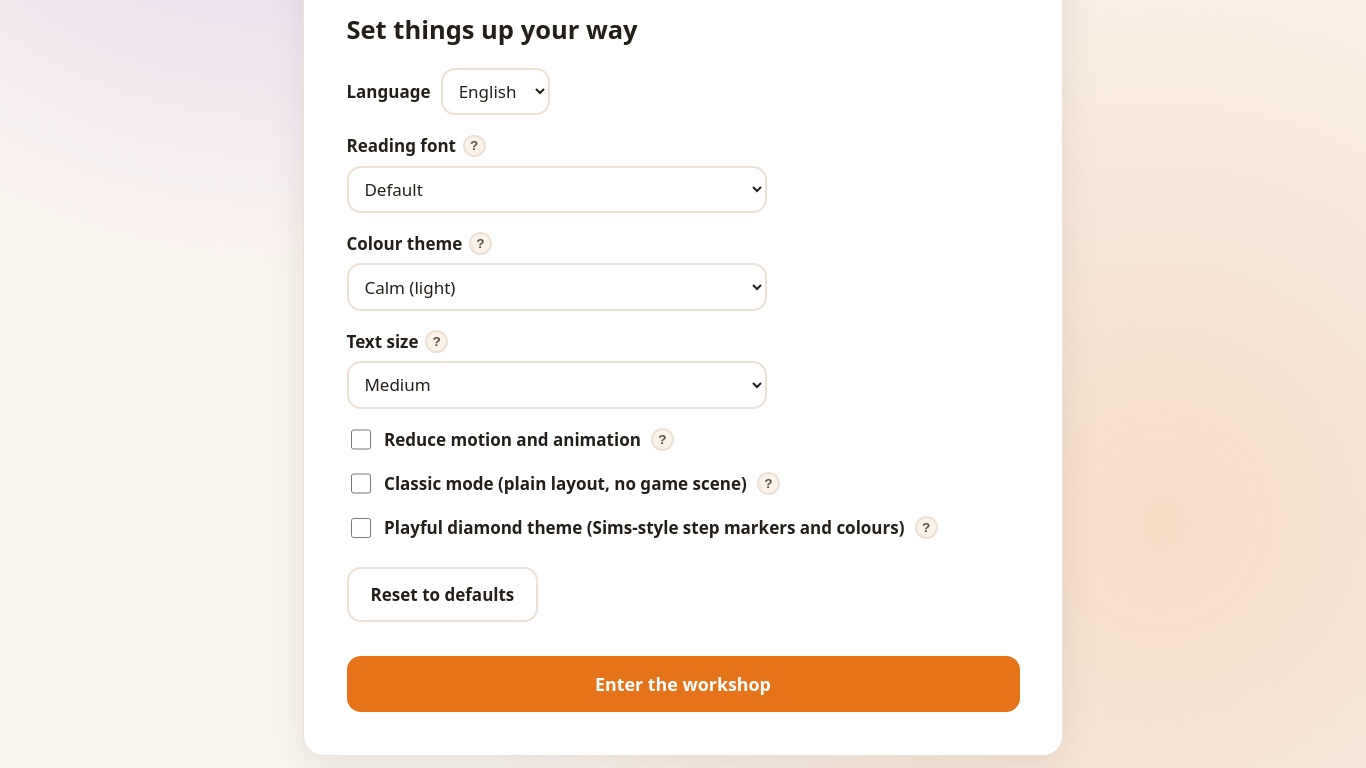
Test: WelcomeScreen (Step 1) › cancels a reset without changing preferences
(page scrolled)
Select "Large" in the dropdown labelled "Text size ?" at (556, 385), box [346,361,766,409]
(page scrolled)
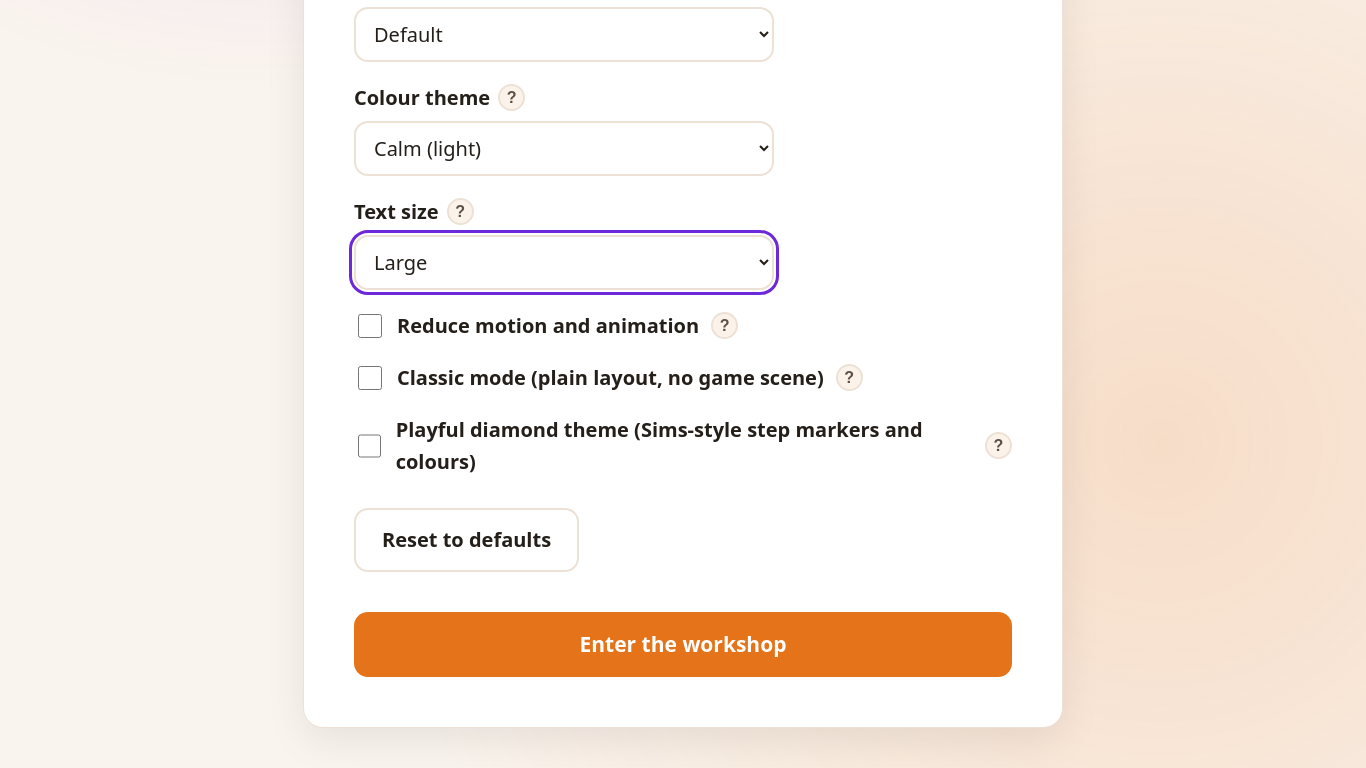
Click the button "Reset to defaults" at (467, 540), box [354,508,579,572]
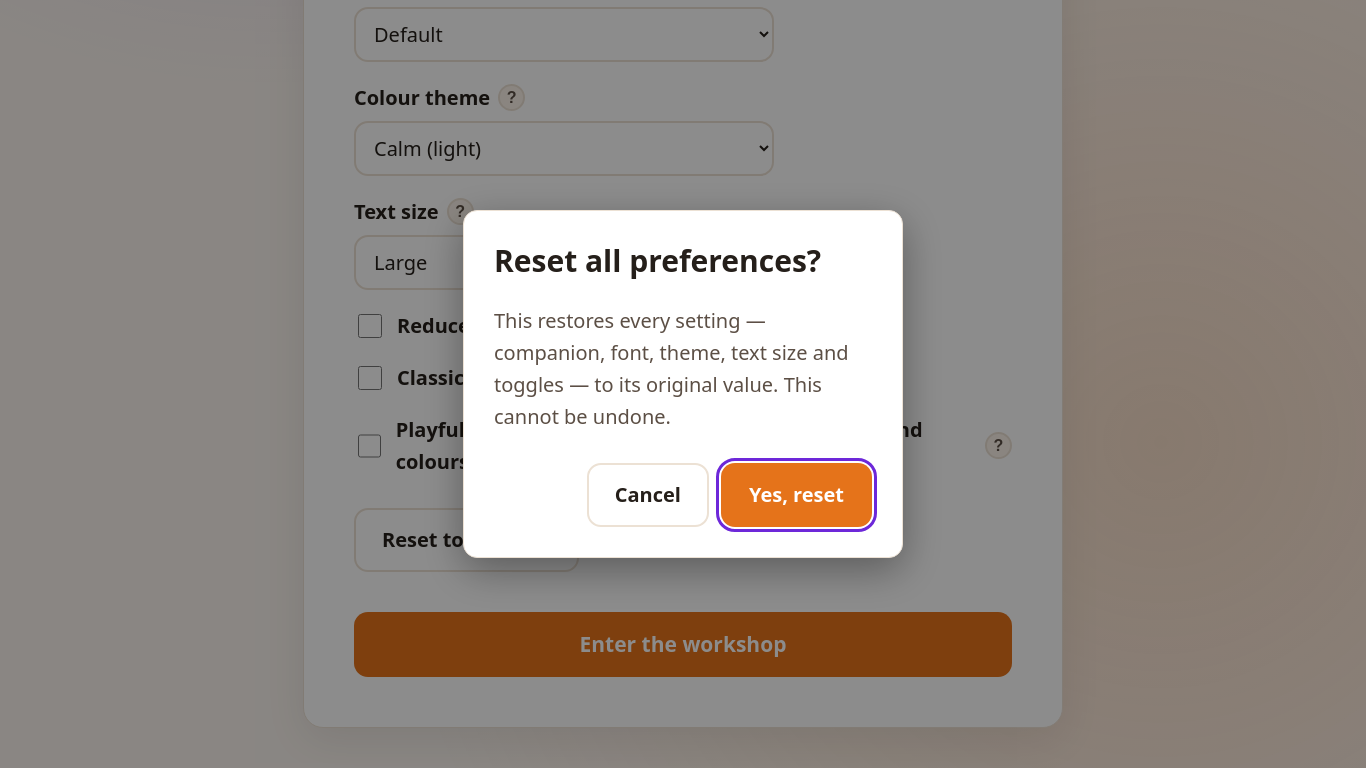
Click the button "Cancel" at (648, 495), box [587,463,709,527]
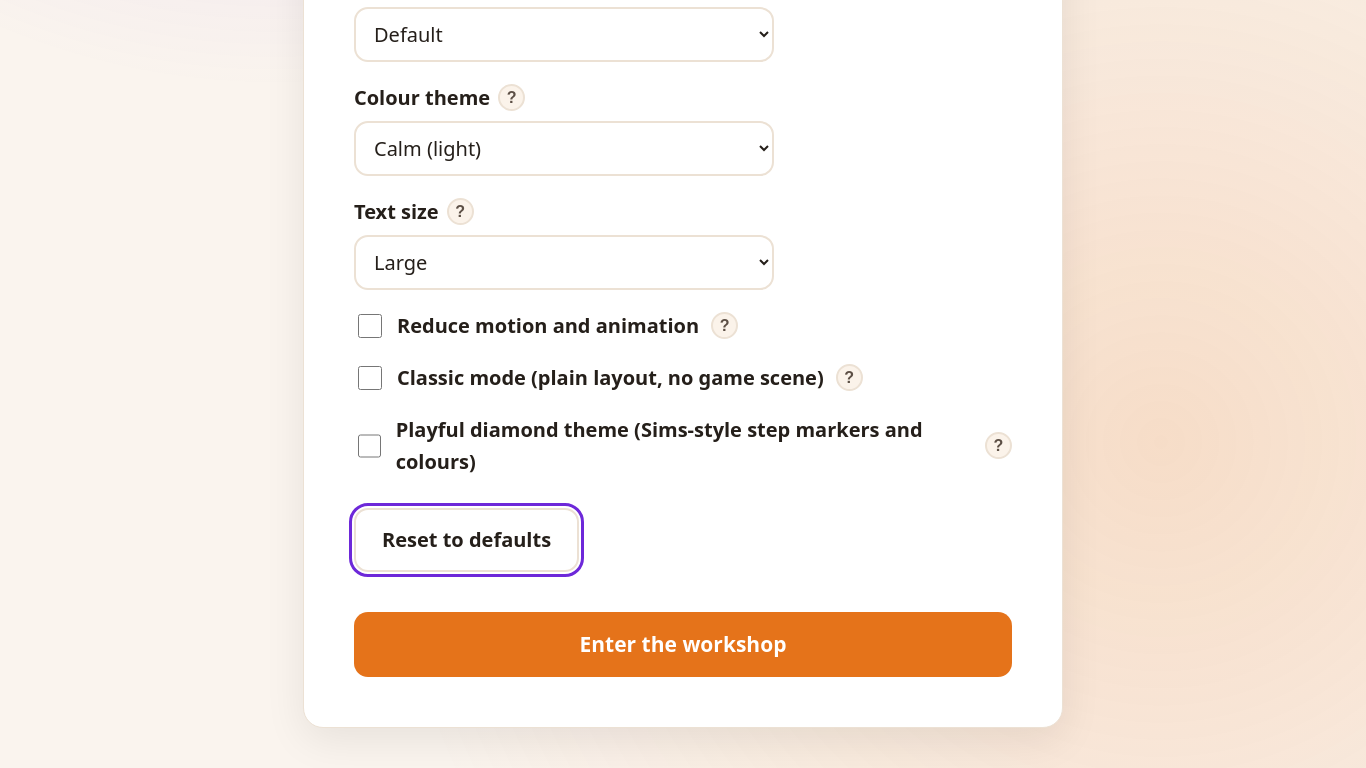
Check: the dialog is gone
